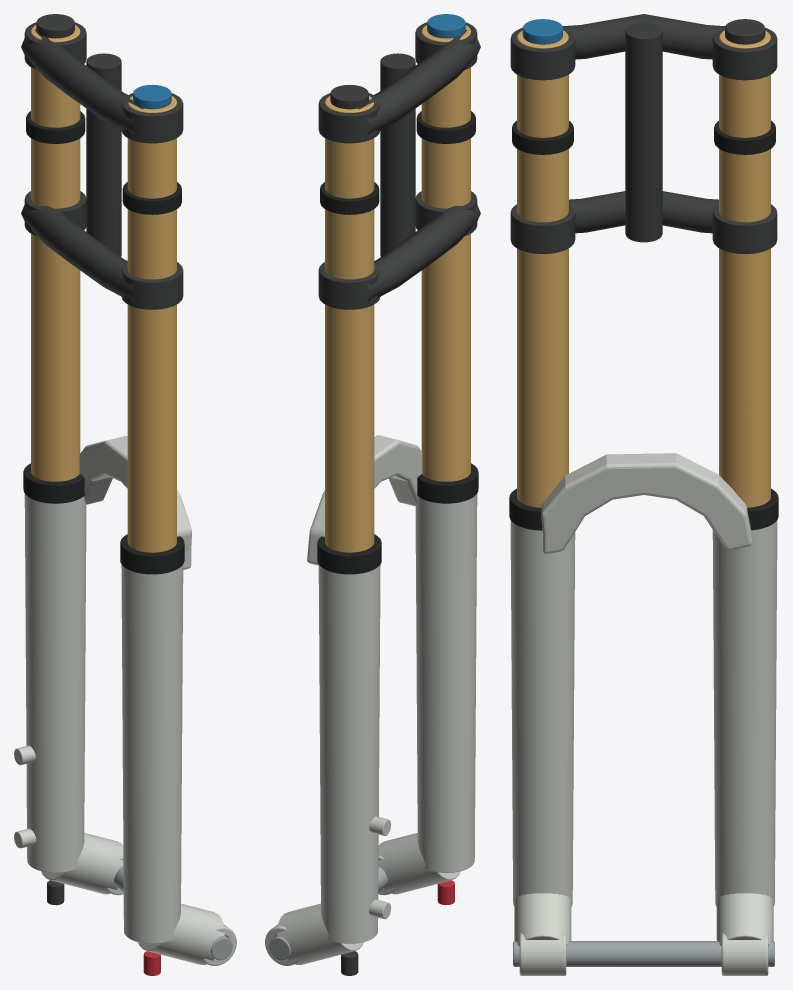
File: fox-40-factory-my27--1a4ab1f9.glb
The picture shows the model from 3 angles, left to right: view 1: azimuth 30°, elevation 25°; view 2: azimuth 150°, elevation 25°; view 3: azimuth 270°, elevation 25°; orthographic projection. The views are drawn at different scales.
Visible parts, largest first — view 1: fox-40-factory-my27--1a4ab1f9__frame, fox-40-factory-my27--1a4ab1f9__stanchions, fox-40-factory-my27--1a4ab1f9__link, fox-40-factory-my27--1a4ab1f9__protection, fox-40-factory-my27--1a4ab1f9__adjuster, fox-40-factory-my27--1a4ab1f9__bolts; view 2: fox-40-factory-my27--1a4ab1f9__frame, fox-40-factory-my27--1a4ab1f9__stanchions, fox-40-factory-my27--1a4ab1f9__link, fox-40-factory-my27--1a4ab1f9__protection, fox-40-factory-my27--1a4ab1f9__adjuster, fox-40-factory-my27--1a4ab1f9__bolts; view 3: fox-40-factory-my27--1a4ab1f9__frame, fox-40-factory-my27--1a4ab1f9__stanchions, fox-40-factory-my27--1a4ab1f9__link, fox-40-factory-my27--1a4ab1f9__bolts, fox-40-factory-my27--1a4ab1f9__protection, fox-40-factory-my27--1a4ab1f9__adjuster.
Boxes of the visible parts, bbox=[...] form: fox-40-factory-my27--1a4ab1f9__frame: bbox=[14, 435, 236, 965]; fox-40-factory-my27--1a4ab1f9__stanchions: bbox=[31, 25, 176, 552]; fox-40-factory-my27--1a4ab1f9__link: bbox=[21, 14, 183, 905]; fox-40-factory-my27--1a4ab1f9__protection: bbox=[23, 111, 184, 574]; fox-40-factory-my27--1a4ab1f9__adjuster: bbox=[133, 84, 171, 109]; fox-40-factory-my27--1a4ab1f9__bolts: bbox=[114, 866, 232, 960]; fox-40-factory-my27--1a4ab1f9__frame: bbox=[265, 435, 477, 965]; fox-40-factory-my27--1a4ab1f9__stanchions: bbox=[325, 25, 470, 552]; fox-40-factory-my27--1a4ab1f9__link: bbox=[318, 22, 480, 975]; fox-40-factory-my27--1a4ab1f9__protection: bbox=[317, 111, 478, 574]; fox-40-factory-my27--1a4ab1f9__adjuster: bbox=[427, 14, 465, 38]; fox-40-factory-my27--1a4ab1f9__bolts: bbox=[269, 866, 387, 960]; fox-40-factory-my27--1a4ab1f9__frame: bbox=[510, 453, 777, 975]; fox-40-factory-my27--1a4ab1f9__stanchions: bbox=[517, 30, 770, 507]; fox-40-factory-my27--1a4ab1f9__link: bbox=[510, 14, 777, 253]; fox-40-factory-my27--1a4ab1f9__bolts: bbox=[513, 941, 774, 966]; fox-40-factory-my27--1a4ab1f9__protection: bbox=[509, 120, 778, 530]; fox-40-factory-my27--1a4ab1f9__adjuster: bbox=[522, 19, 562, 44].
Bounding box in the file's own units: 0.108 × 0.7845 × 0.208.
